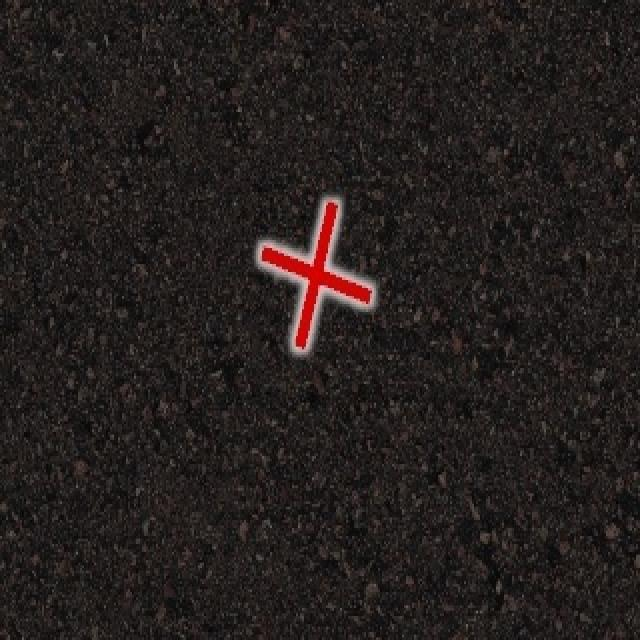x_marker: (259, 201, 371, 348)
